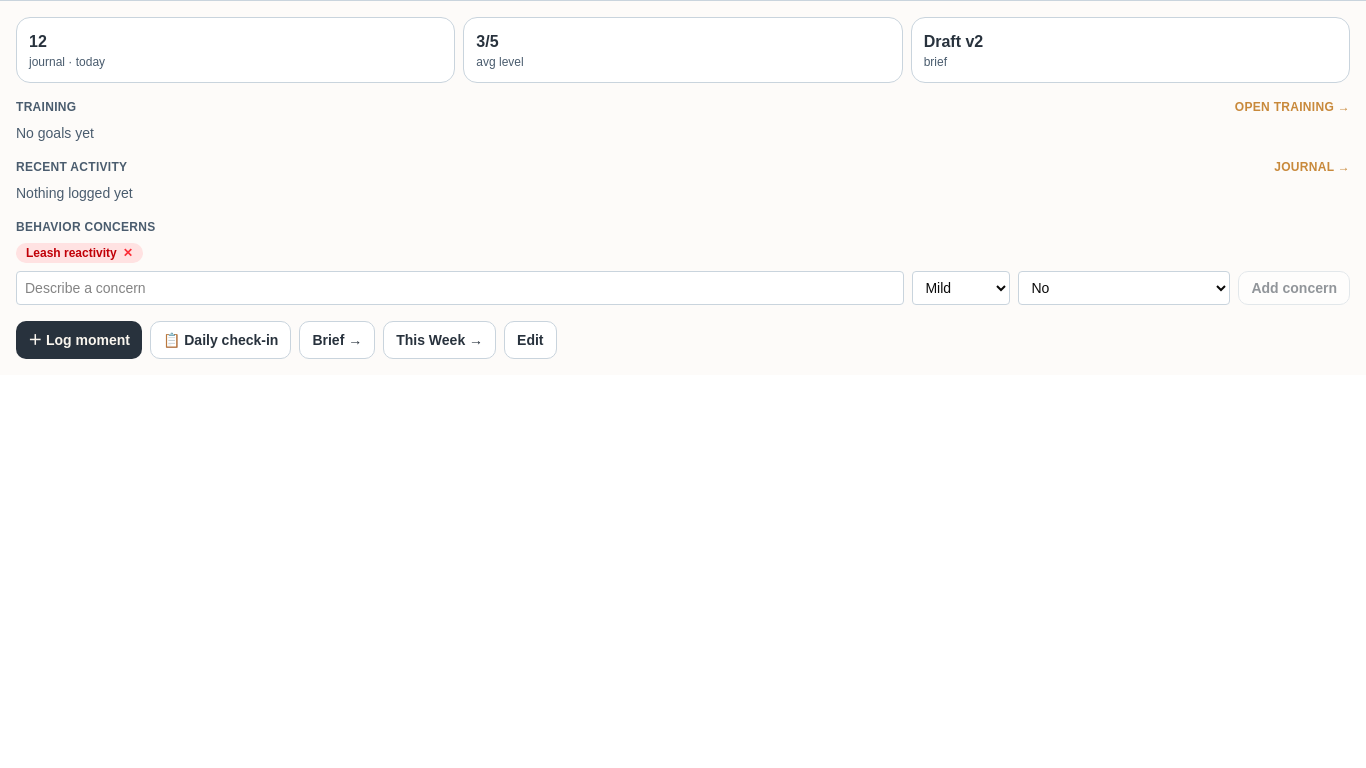
Scenario: DogCardBody › opens the Daily check-in dialog in place
Click the button "📋 Daily check-in" at (221, 340), box [150,321,291,359]
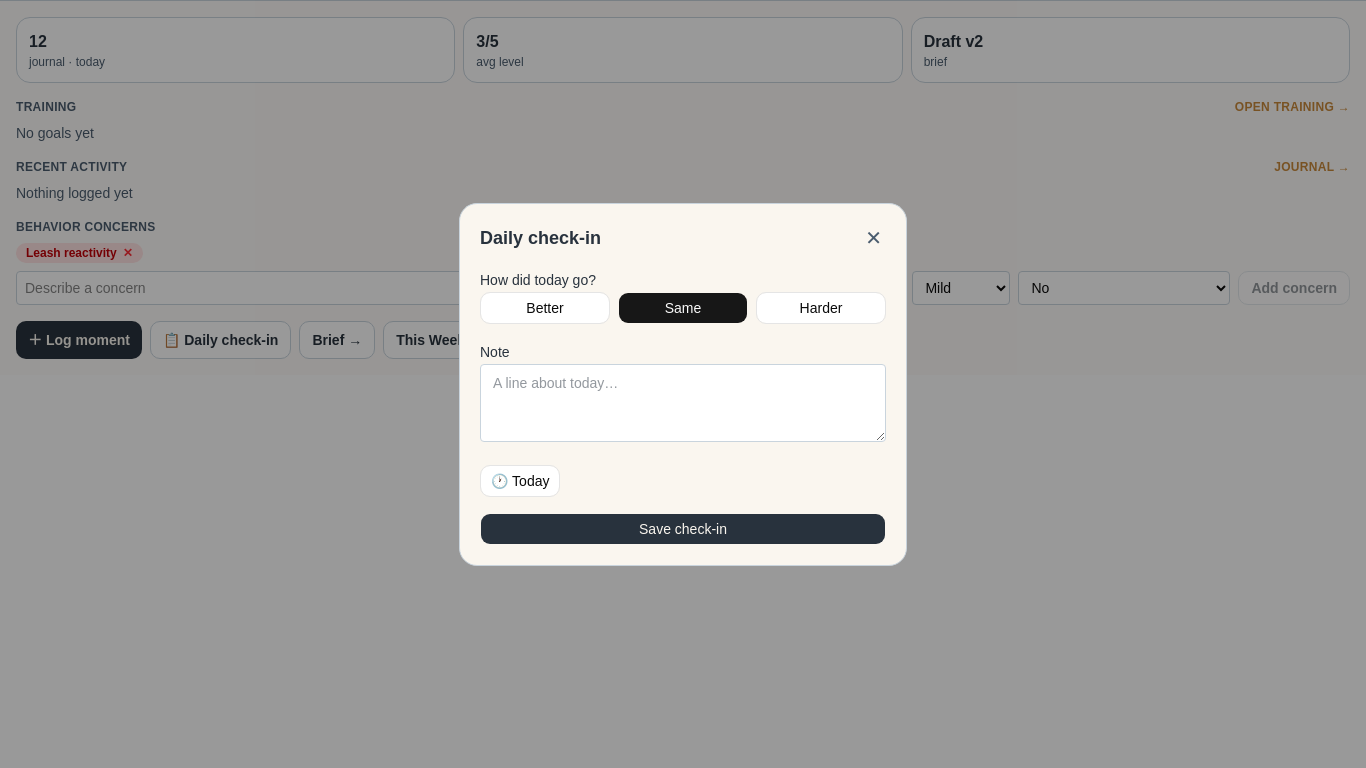
expect the dialog "Daily check-in" is shown: met, box [459,202,907,566]
